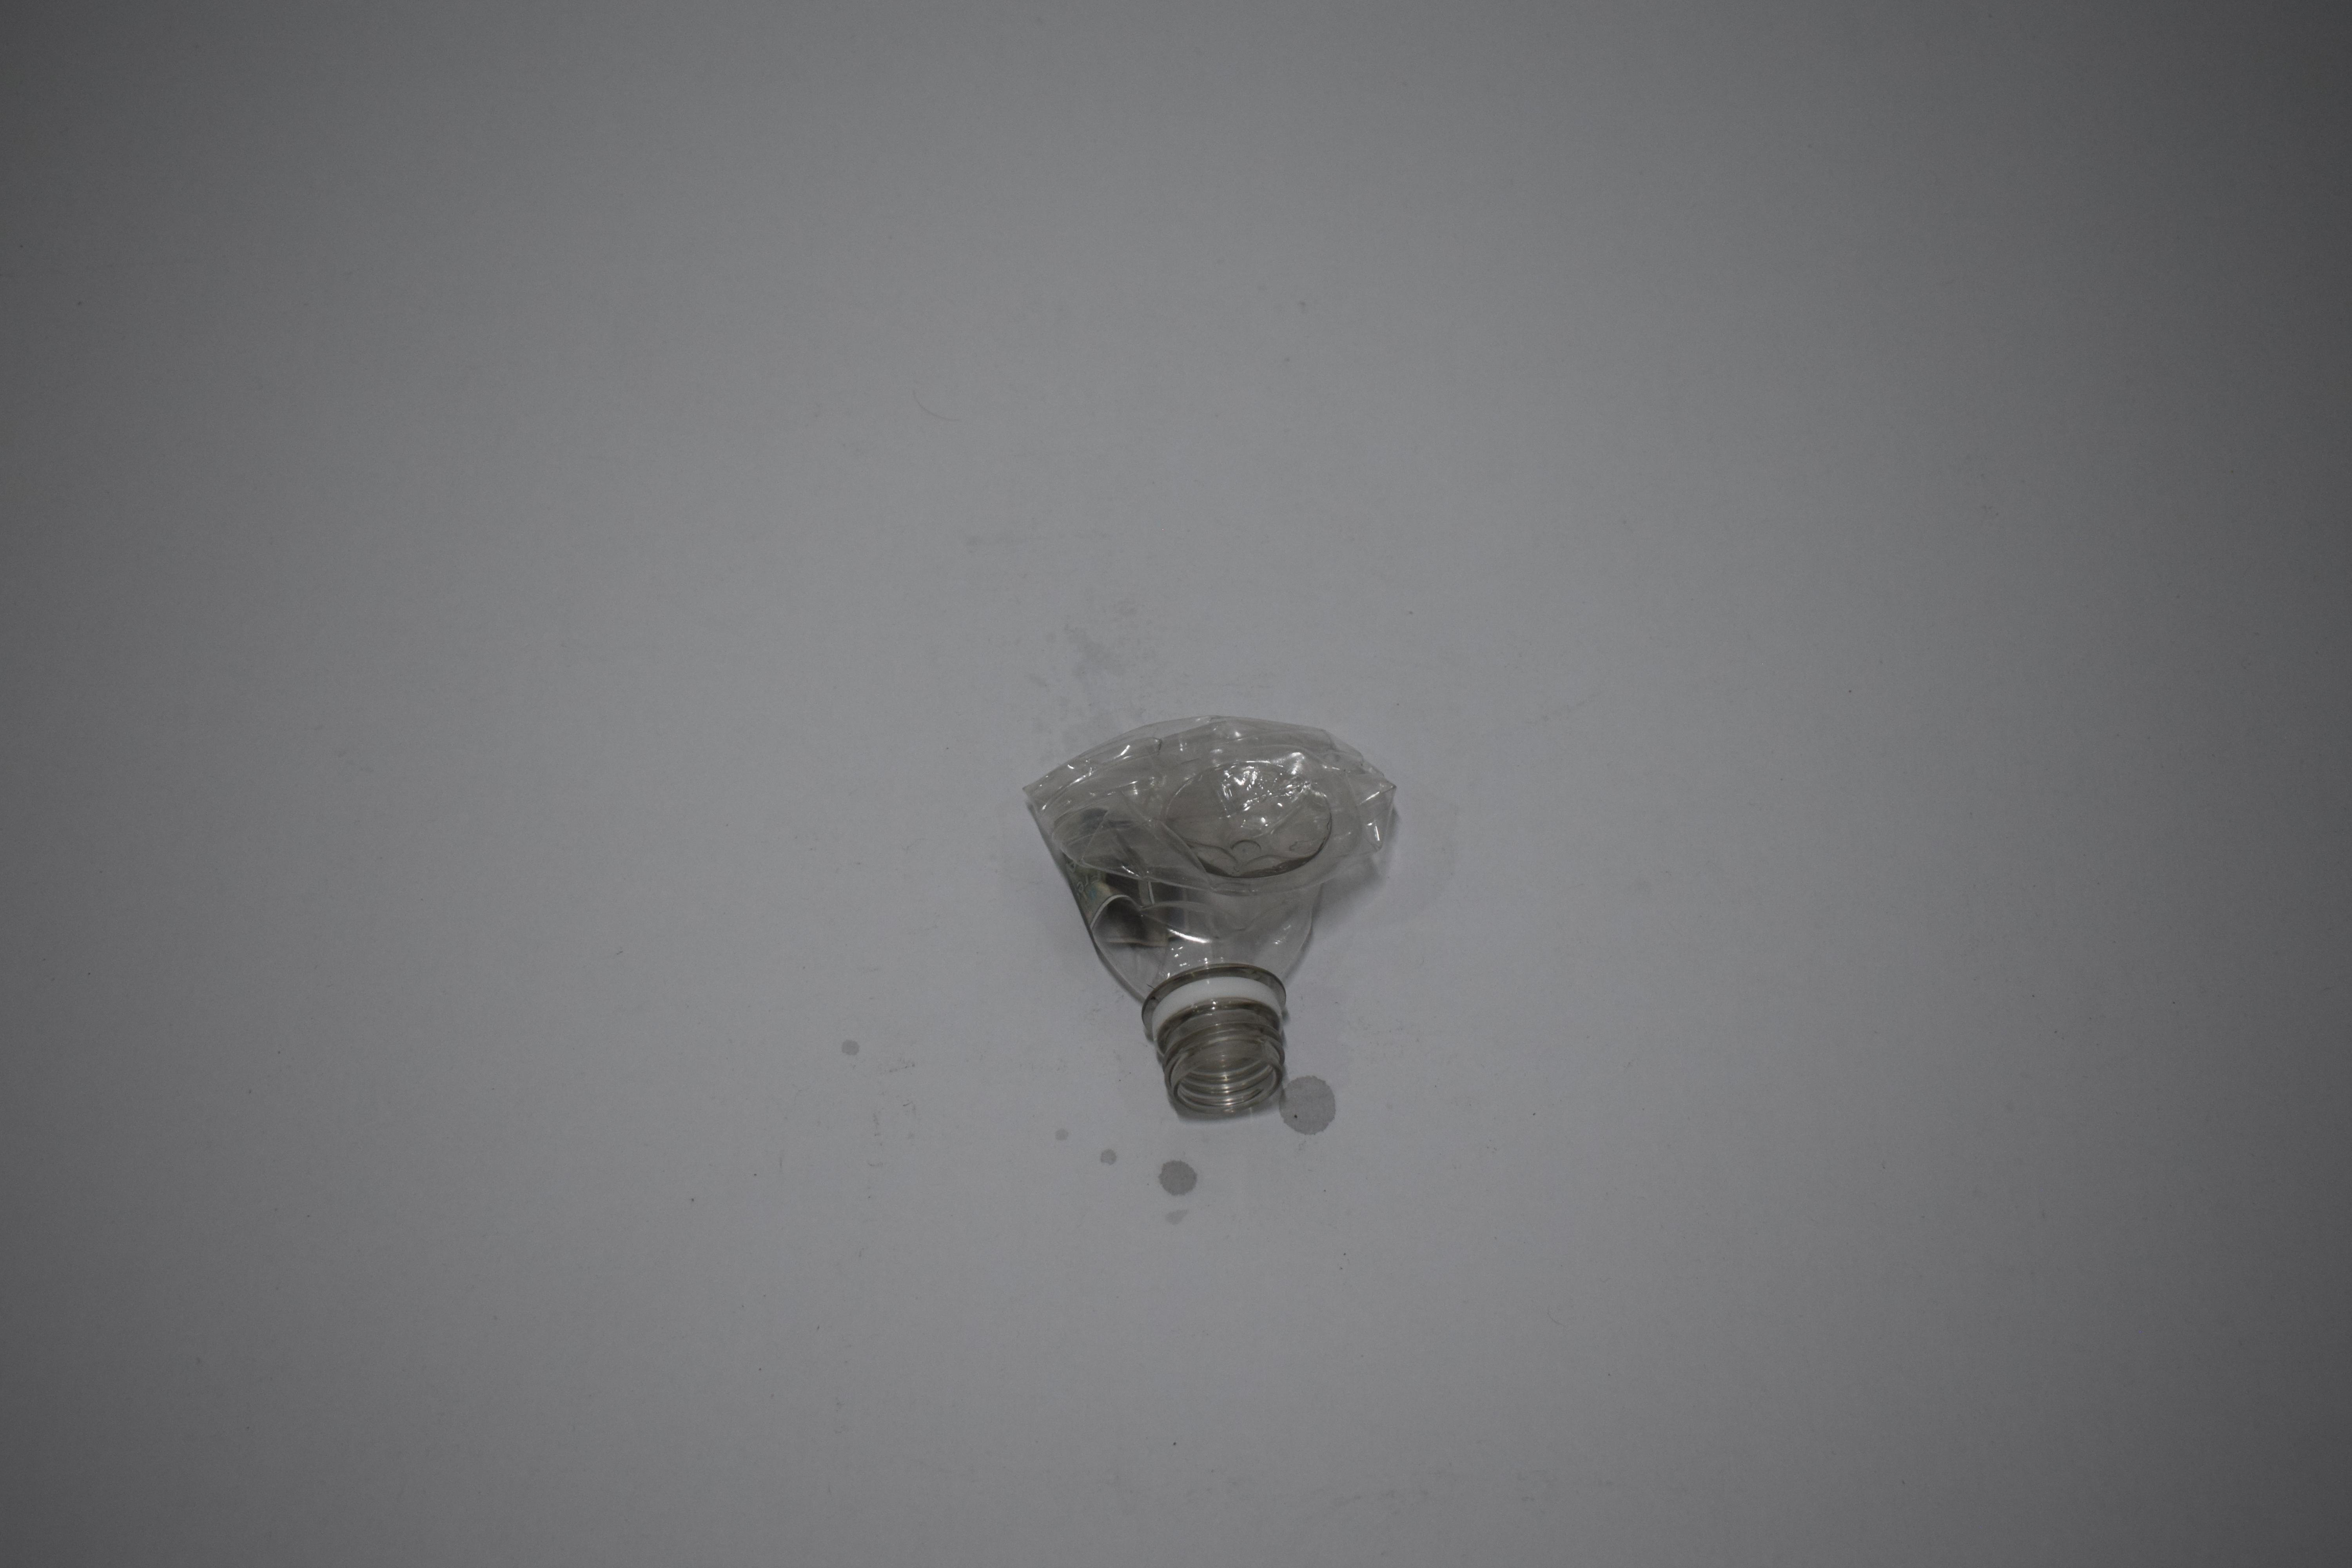bottle: (0, 0, 224, 338)
